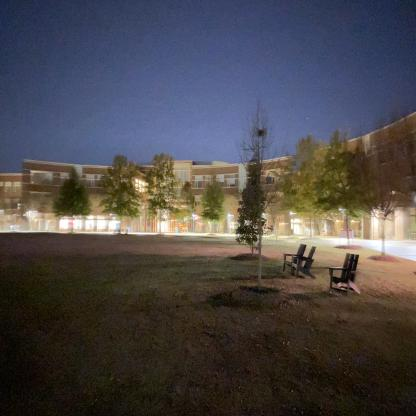eb2: (23, 148, 305, 245)
